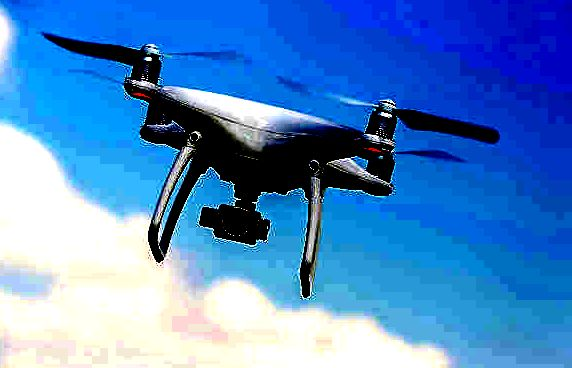Drone: (37, 23, 504, 301)
